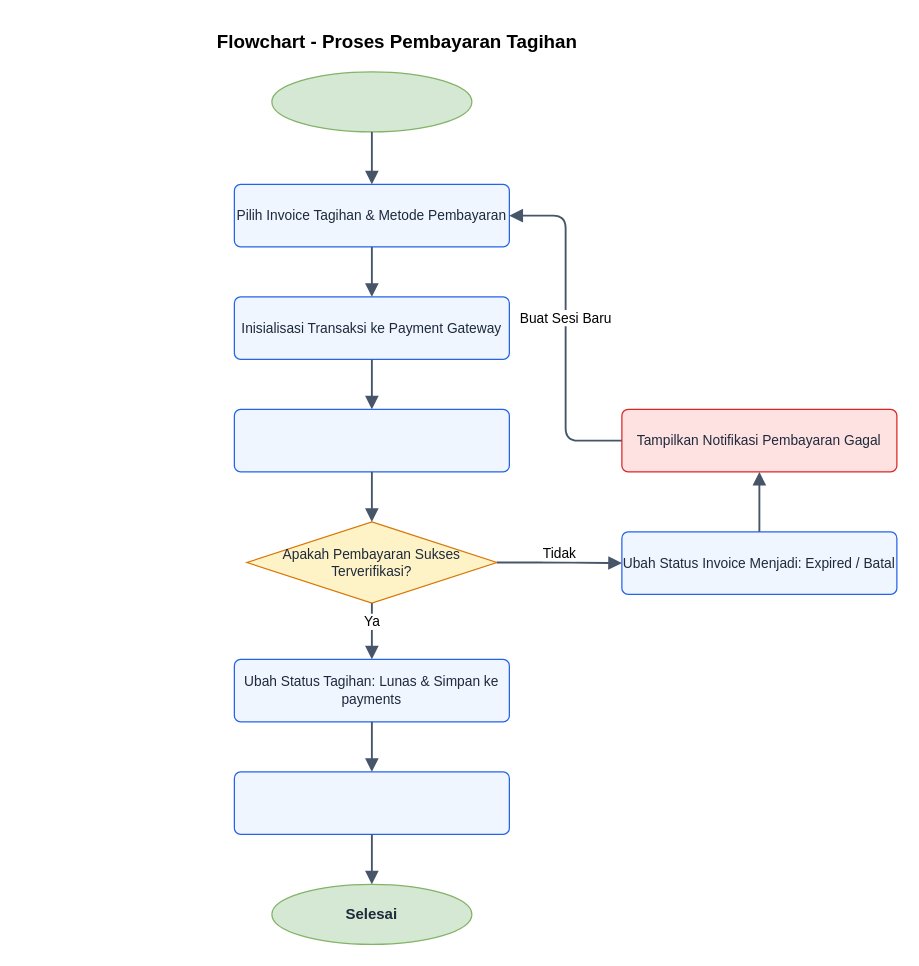
Some shapes in this 919 by 966 pixel diagram are drawn without their labels. The shapes that lost their labels are listed below. From the top down, each one's centre as x and y in pixels, then its label:
At (x=371, y=101): "Mulai".
At (x=371, y=440): "Klien Melakukan Pembayaran (QRIS/VA)".
At (x=371, y=802): "Terbitkan Kuitansi & Bukti Pembayaran Digital".
